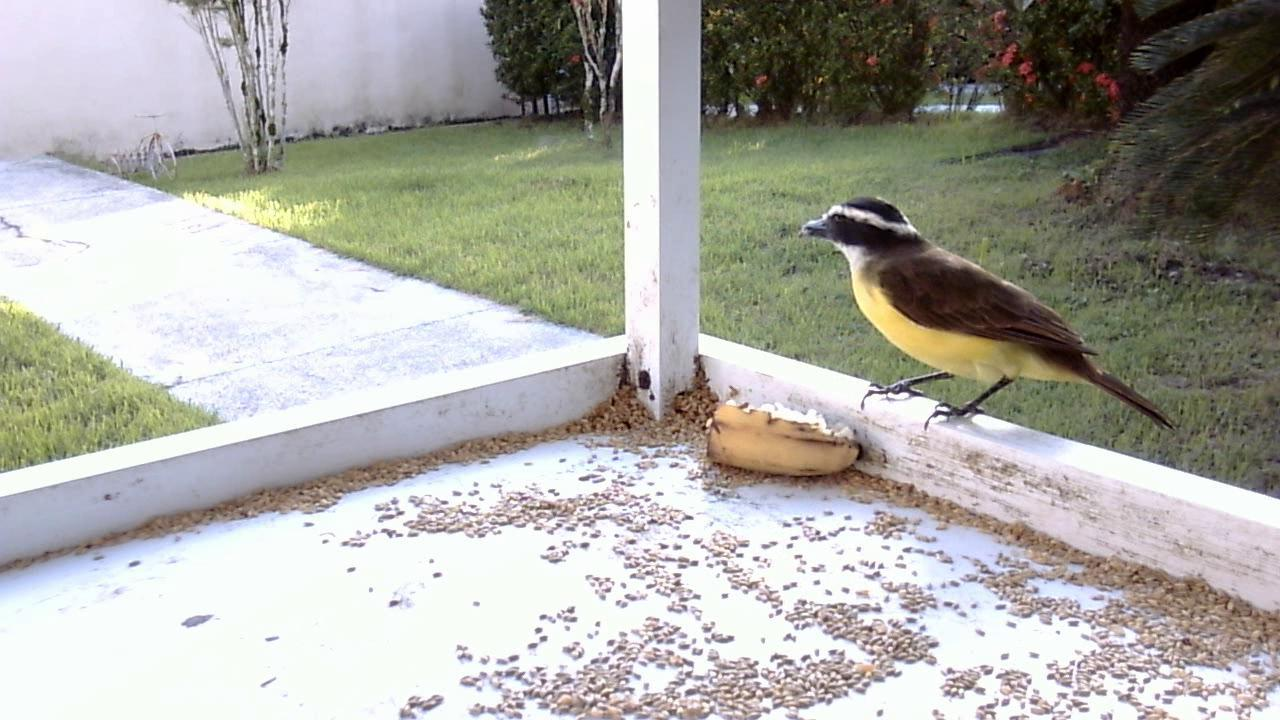bem_te_vi: (786, 182, 1182, 456)
